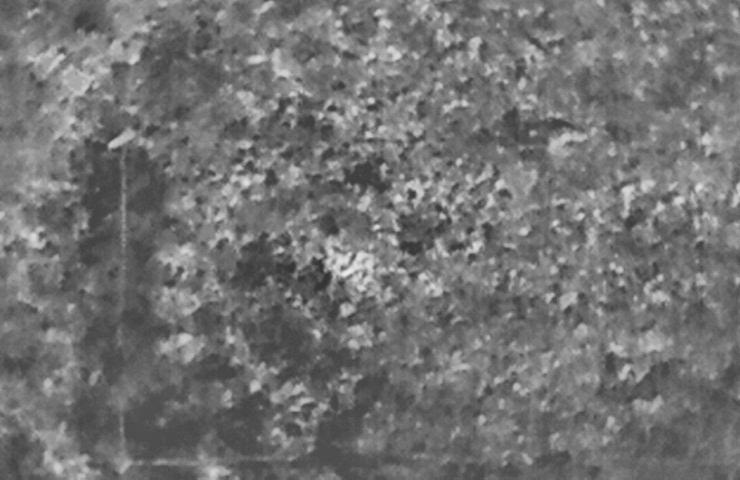landmines: (321, 232, 384, 292)
